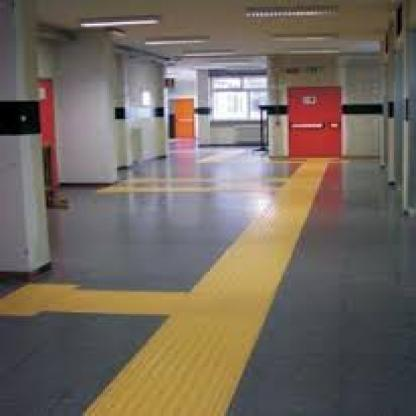podotacti: (0, 96, 345, 416)
